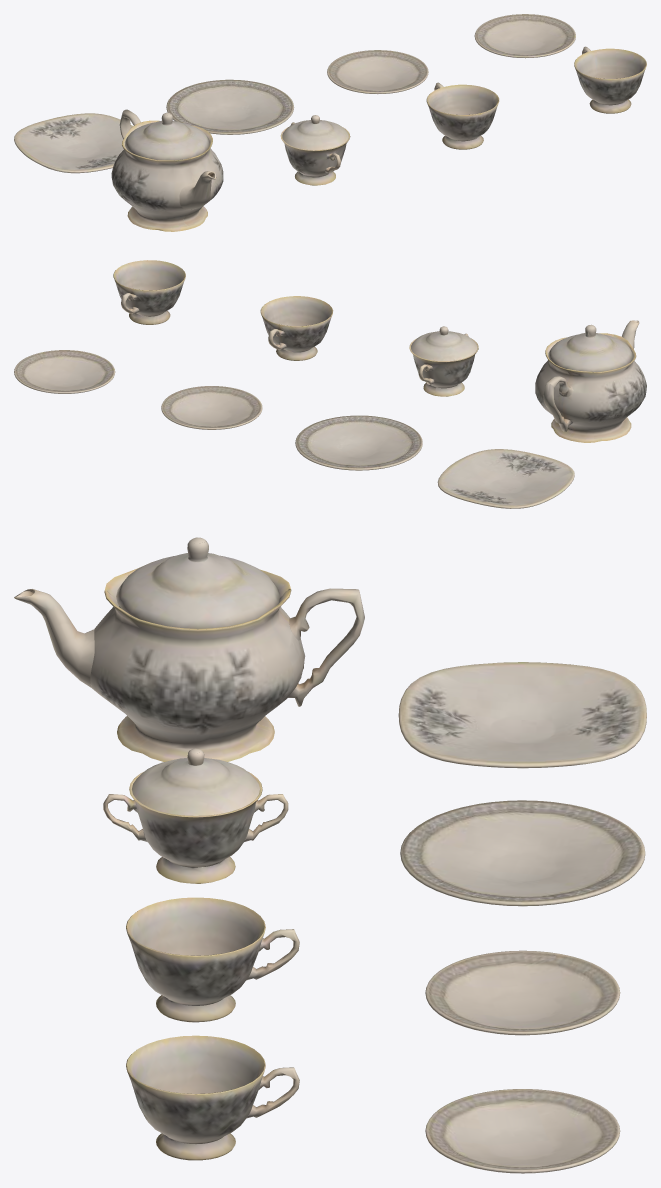
The model's file is tea_set_01.glb.
The picture shows the model from 3 angles, top to bottom: view 1: azimuth 30°, elevation 25°; view 2: azimuth 150°, elevation 25°; view 3: azimuth 270°, elevation 25°; orthographic projection. The views are drawn at different scales.
Parts seen in each view (by area): view 1: tea_set_01_teapot_01, tea_set_01_plate_large_circular_03, tea_set_01_plate_large_square_01, tea_set_01_cup_small_01, tea_set_01_cup_small_02, tea_set_01_saucer_circular_03, tea_set_01_saucer_circular_04, tea_set_01_teapot_01_lid, tea_set_01_sugar_cup_01, tea_set_01_sugar_cup_01_lid; view 2: tea_set_01_teapot_01, tea_set_01_plate_large_square_01, tea_set_01_plate_large_circular_03, tea_set_01_cup_small_02, tea_set_01_cup_small_01, tea_set_01_saucer_circular_04, tea_set_01_saucer_circular_03, tea_set_01_teapot_01_lid, tea_set_01_sugar_cup_01, tea_set_01_sugar_cup_01_lid; view 3: tea_set_01_teapot_01, tea_set_01_plate_large_square_01, tea_set_01_plate_large_circular_03, tea_set_01_cup_small_01, tea_set_01_cup_small_02, tea_set_01_saucer_circular_04, tea_set_01_saucer_circular_03, tea_set_01_teapot_01_lid, tea_set_01_sugar_cup_01, tea_set_01_sugar_cup_01_lid.
Part boxes in pixels (x1,y1,x2,y2): tea_set_01_teapot_01: [111, 109, 223, 231]; tea_set_01_plate_large_circular_03: [166, 79, 294, 134]; tea_set_01_plate_large_square_01: [14, 113, 133, 173]; tea_set_01_cup_small_01: [426, 82, 499, 149]; tea_set_01_cup_small_02: [574, 46, 646, 113]; tea_set_01_saucer_circular_03: [474, 14, 575, 58]; tea_set_01_saucer_circular_04: [327, 50, 428, 94]; tea_set_01_teapot_01_lid: [124, 112, 209, 160]; tea_set_01_sugar_cup_01: [280, 122, 350, 185]; tea_set_01_sugar_cup_01_lid: [282, 115, 348, 150]; tea_set_01_teapot_01: [535, 320, 646, 442]; tea_set_01_plate_large_square_01: [437, 449, 574, 508]; tea_set_01_plate_large_circular_03: [295, 415, 422, 470]; tea_set_01_cup_small_02: [113, 260, 185, 324]; tea_set_01_cup_small_01: [260, 296, 333, 360]; tea_set_01_saucer_circular_04: [161, 386, 262, 429]; tea_set_01_saucer_circular_03: [14, 350, 115, 393]; tea_set_01_teapot_01_lid: [548, 324, 633, 371]; tea_set_01_sugar_cup_01: [409, 333, 478, 396]; tea_set_01_sugar_cup_01_lid: [411, 326, 477, 361]; tea_set_01_teapot_01: [14, 567, 364, 761]; tea_set_01_plate_large_square_01: [398, 662, 646, 768]; tea_set_01_plate_large_circular_03: [400, 800, 645, 906]; tea_set_01_cup_small_01: [126, 897, 299, 1022]; tea_set_01_cup_small_02: [126, 1035, 299, 1160]; tea_set_01_saucer_circular_04: [425, 950, 620, 1035]; tea_set_01_saucer_circular_03: [425, 1089, 620, 1173]; tea_set_01_teapot_01_lid: [116, 537, 280, 628]; tea_set_01_sugar_cup_01: [103, 771, 288, 883]; tea_set_01_sugar_cup_01_lid: [132, 748, 259, 815].
Size of the model in its own units: 0.147 by 0.0264 by 0.0774.
Materials: 1 (1 with a texture image).
